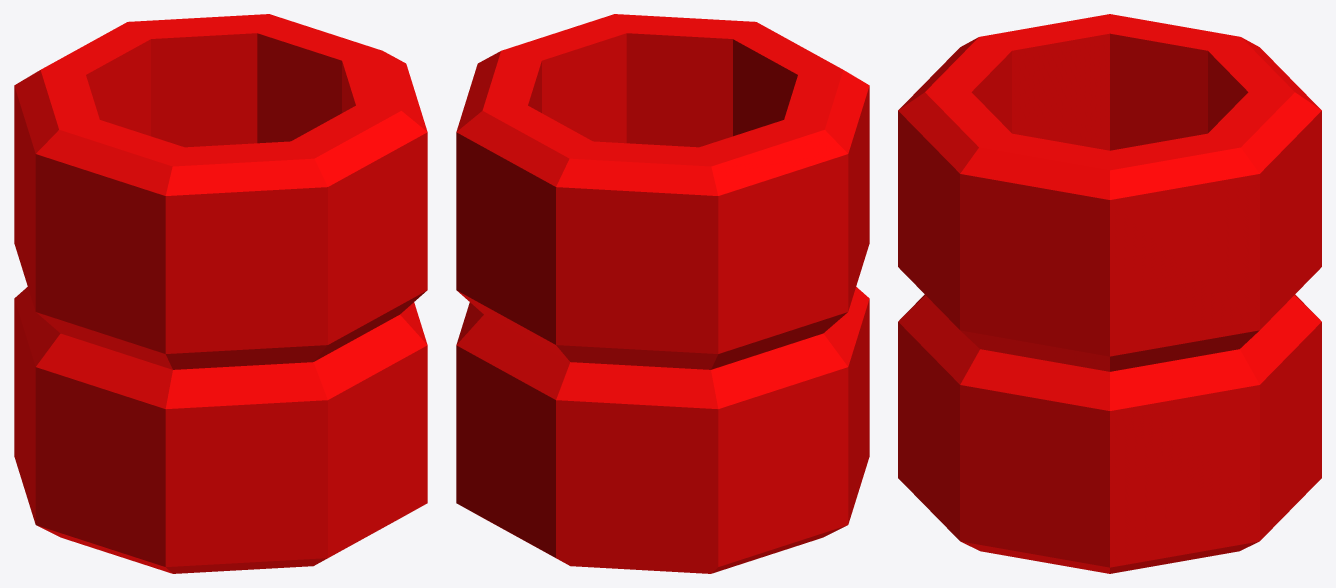
File: tires-00.FBX
3 views of the same model, side by side, from view 1: azimuth 30°, elevation 25°; view 2: azimuth 150°, elevation 25°; view 3: azimuth 270°, elevation 25° (orthographic).
Parts seen in each view (by area): view 1: Tires; view 2: Tires; view 3: Tires.
Boxes of the visible parts, bbox=[...] form: Tires: bbox=[14, 14, 427, 573]; Tires: bbox=[456, 14, 869, 573]; Tires: bbox=[898, 14, 1321, 573].
Size of the model in its own units: 5.8 by 6.1 by 5.8.
